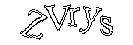V: (44, 5, 70, 31)
Z: (20, 10, 47, 39)
r: (68, 7, 79, 25)
s: (100, 15, 112, 34)
y: (79, 5, 101, 32)
